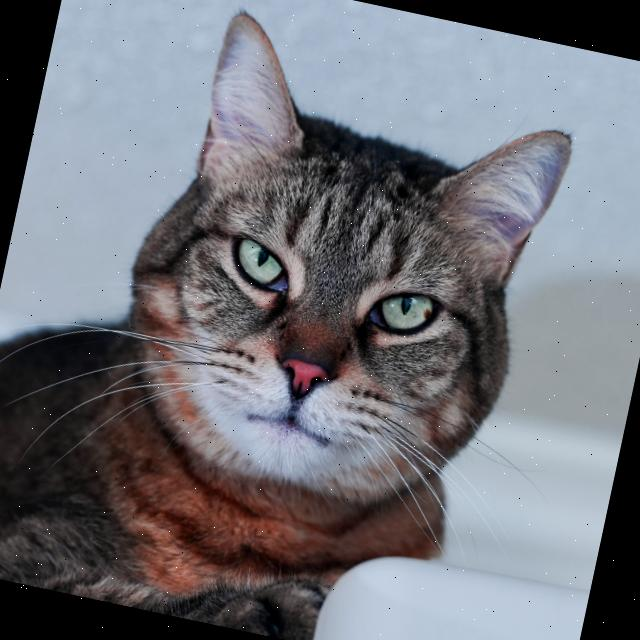manx_cat: (66, 0, 640, 584)
